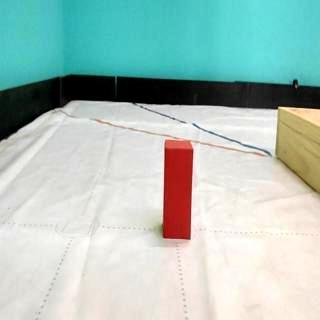redbox: (164, 139, 192, 239)
